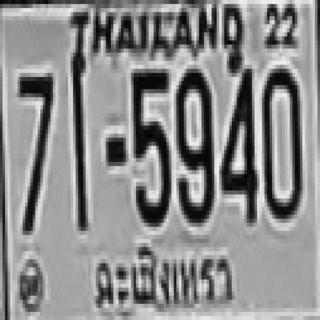N00: (260, 65, 300, 215), (174, 67, 212, 221)
N04: (220, 63, 256, 221)
N05: (131, 69, 169, 223)
N07: (16, 73, 52, 231), (16, 71, 52, 180)
N09: (174, 67, 212, 221)
P07: (90, 240, 239, 317)
